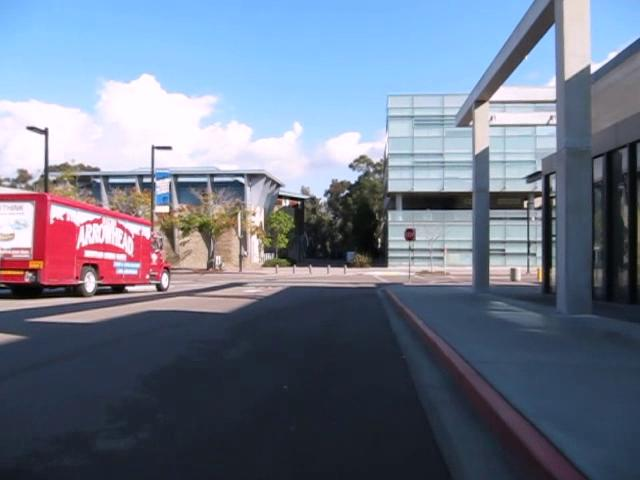stop: (403, 227, 416, 242)
